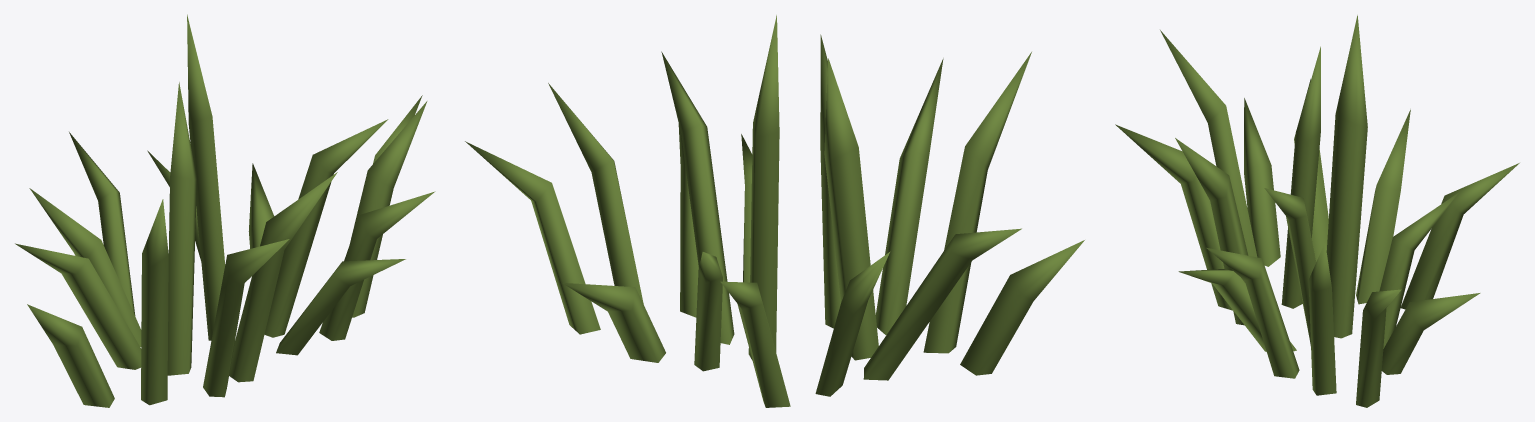
Rendered from rpgpp_ag_grass_small_01d 1.fbx.
3 renders of one model, left to right at view 1: azimuth 30°, elevation 25°; view 2: azimuth 150°, elevation 25°; view 3: azimuth 270°, elevation 25°, orthographic. The views are drawn at different scales.
Parts seen in each view (by area): view 1: rpgpp_ag_grass_small_01d; view 2: rpgpp_ag_grass_small_01d; view 3: rpgpp_ag_grass_small_01d.
Boxes of the visible parts, x1,y1,x2,y2 form: rpgpp_ag_grass_small_01d: [15, 14, 435, 407]; rpgpp_ag_grass_small_01d: [465, 15, 1084, 407]; rpgpp_ag_grass_small_01d: [1115, 15, 1519, 407].
Bounding box in the file's own units: 1.83 × 1.18 × 1.4.
